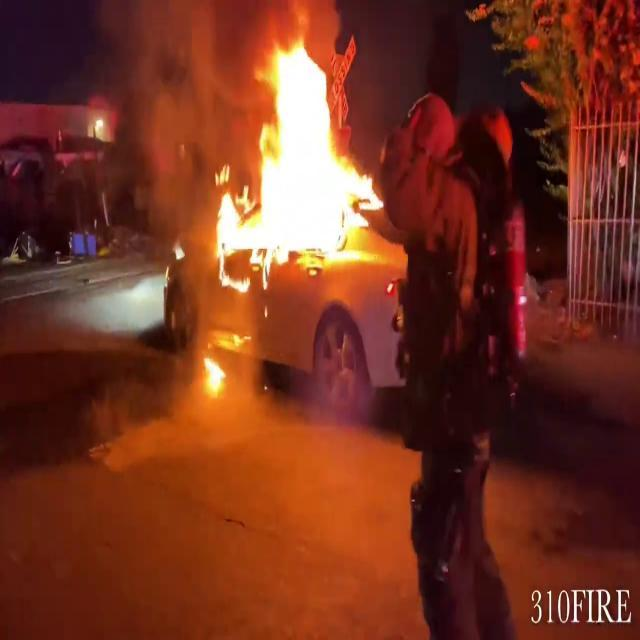Fire: (201, 30, 389, 276), (199, 349, 229, 402)
Smoke: (90, 0, 260, 214)
